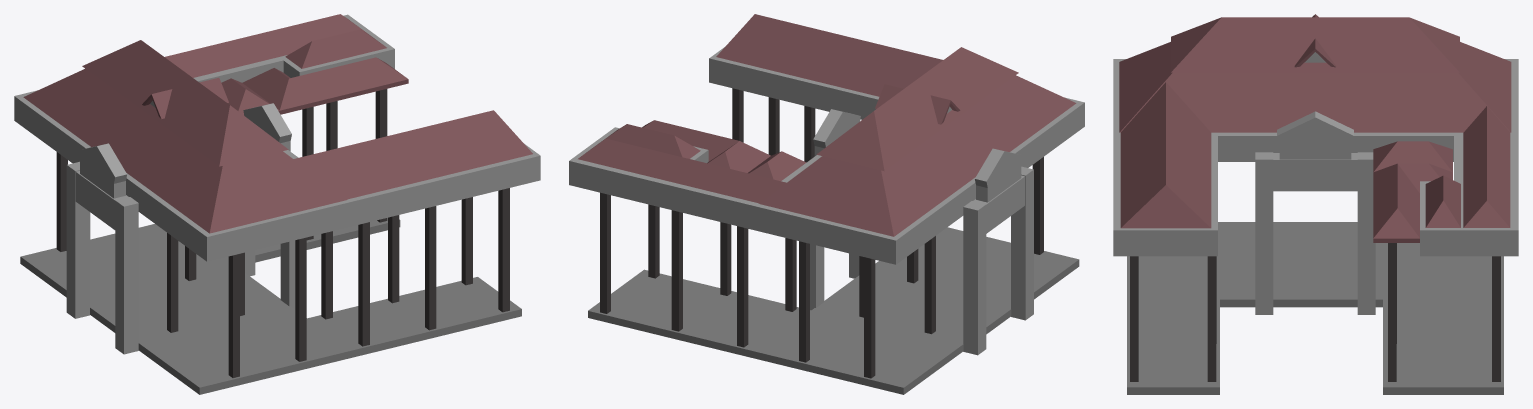
The model's file is B_Pagelaran.fbx.
The picture shows the model from 3 angles, left to right: view 1: azimuth 30°, elevation 25°; view 2: azimuth 150°, elevation 25°; view 3: azimuth 270°, elevation 25°; orthographic projection. The views are drawn at different scales.
Parts seen in each view (by area): view 1: B_Pagelaran; view 2: B_Pagelaran; view 3: B_Pagelaran.
Boxes of the visible parts, x1,y1,x2,y2 form: B_Pagelaran: (14, 14, 540, 394); B_Pagelaran: (569, 14, 1084, 394); B_Pagelaran: (1113, 14, 1518, 394).
Size of the model in its own units: 628 by 411 by 600.
Materials: 1 (1 with a texture image).
